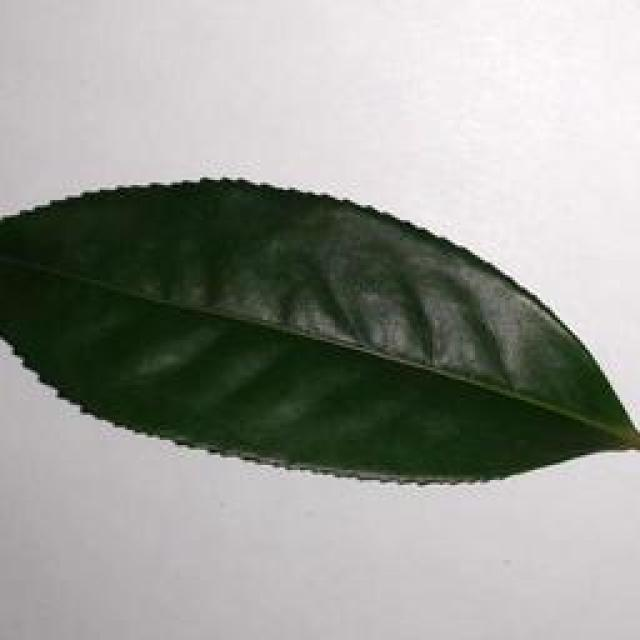Healthy: (2, 175, 640, 492)
